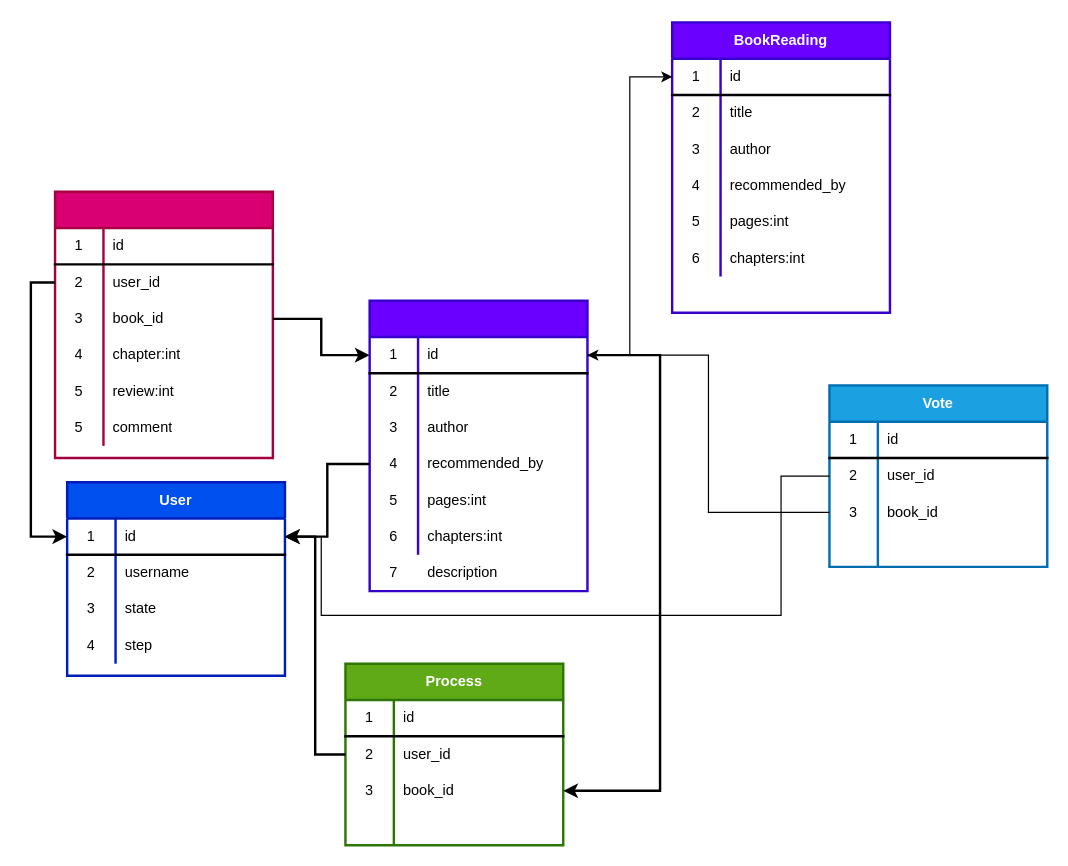
The diagram is 1068 pixels wide and 866 high, and some of its shapes have lost their labels. The shapes that lost their labels are listed below. From the top down, each one's box as (x1, y1, x2, y2) in pixels, then its label:
(53, 190, 273, 459): Read
(368, 299, 588, 592): Book
